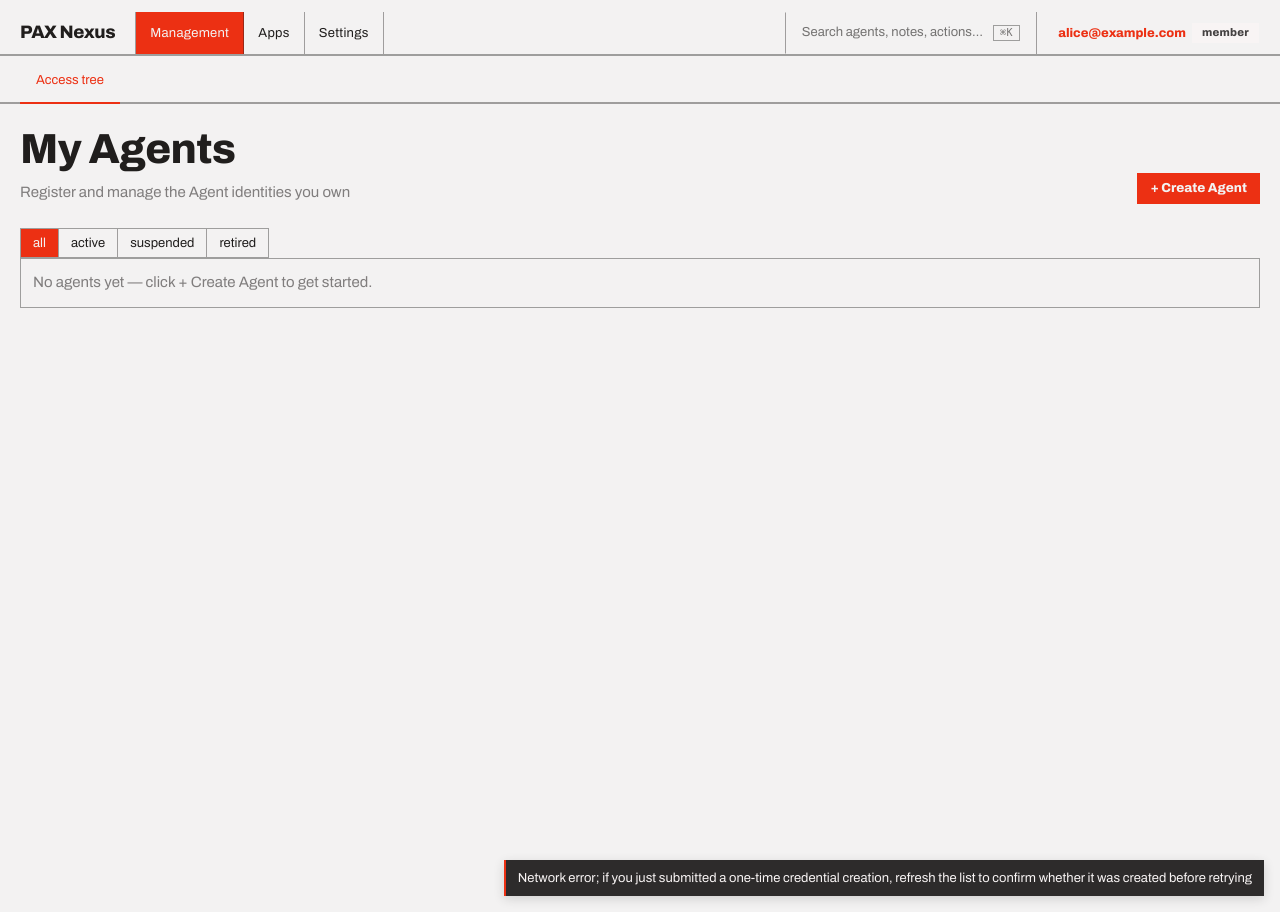
it: Todo app portal integration › still renders suggestions when the personal list endpoint fails
Click the link "Apps" at [274, 33], box [244,12,305,54]
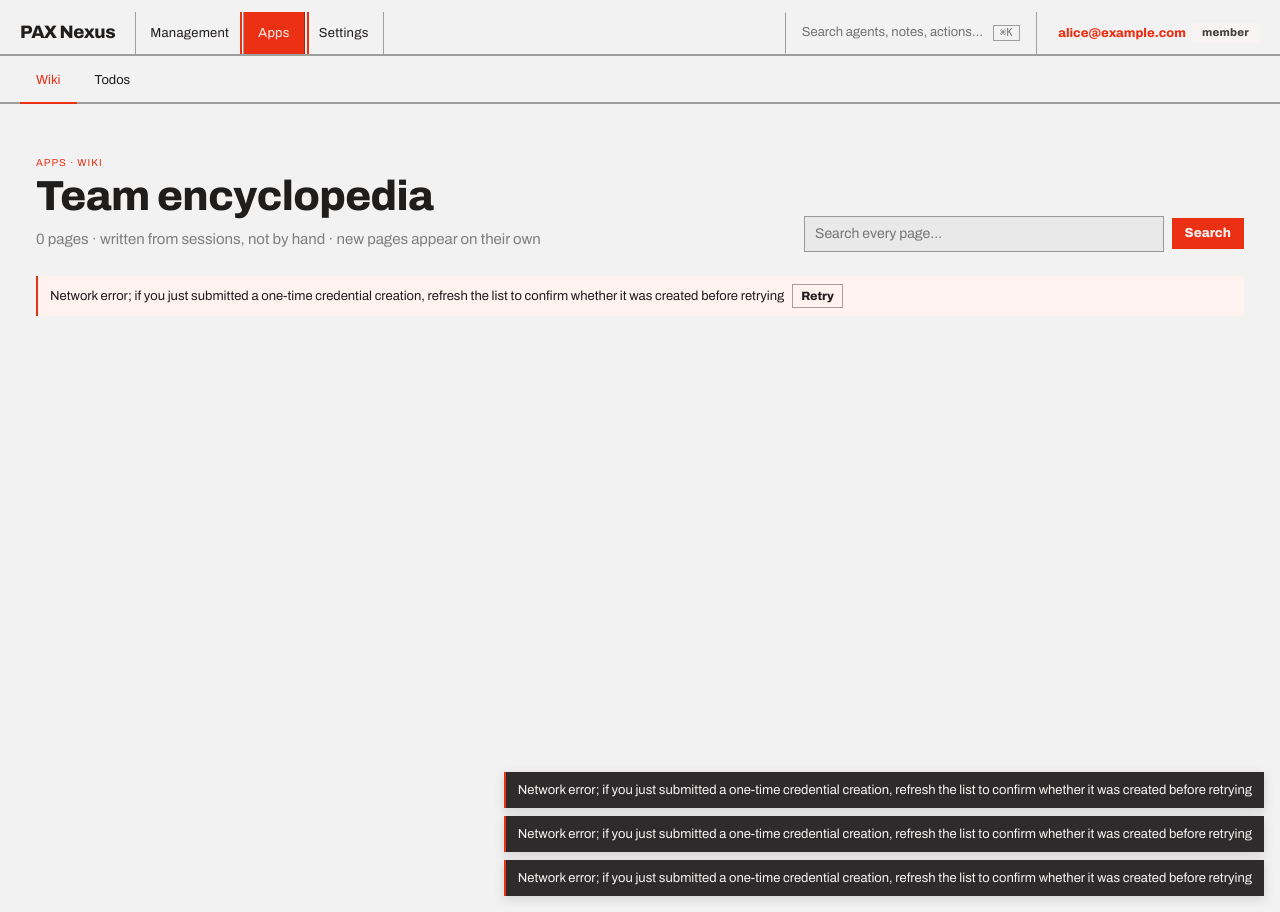
Click the link "Todos" at [112, 80], box [94,73,130,87]
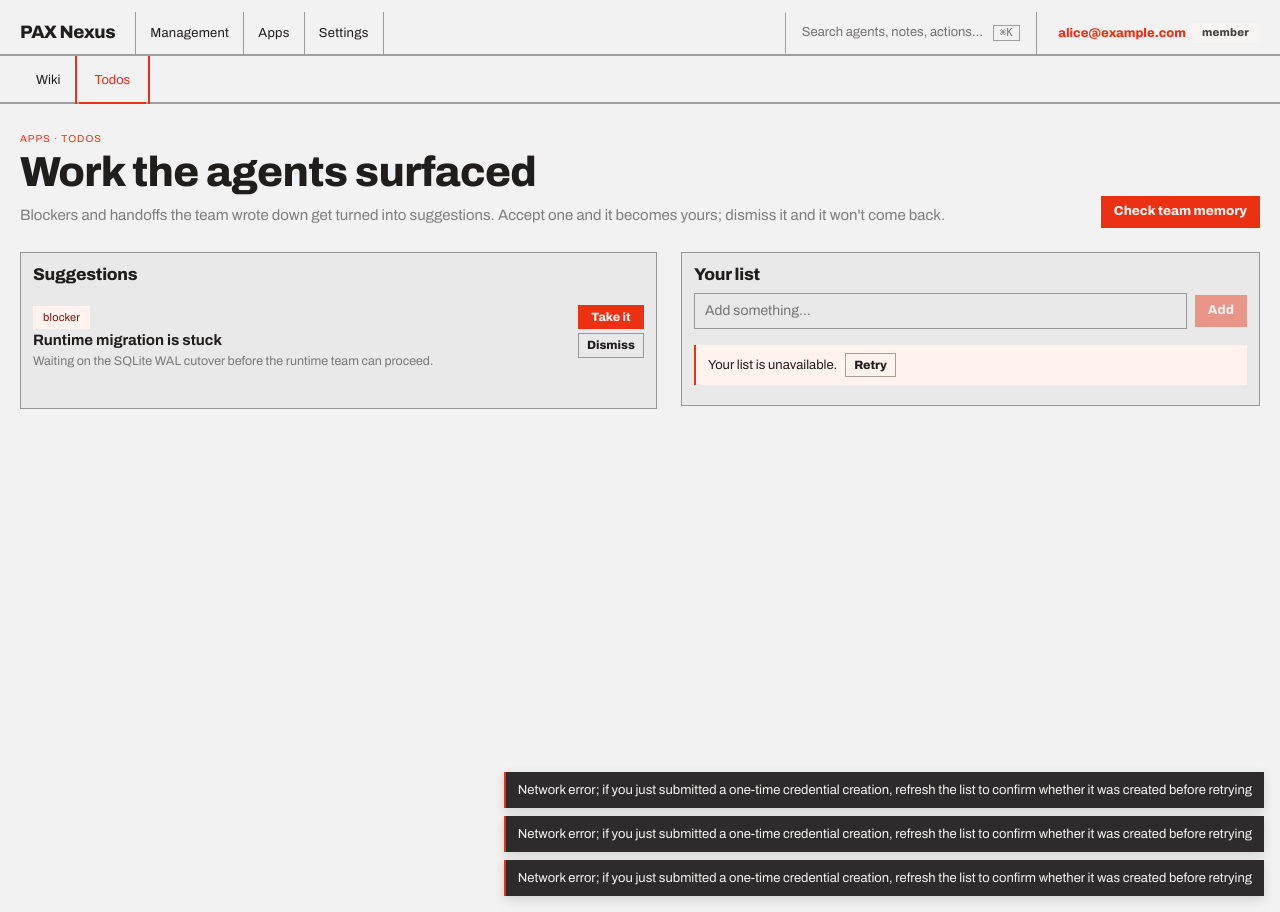
expect the heading "Work the agents surfaced" is shown: met, box [20,149,536,195]
expect the text "Runtime migration is stuck" is shown: met, box [33,332,222,348]
expect the text "Your list is unavailable." is shown: met, box [708,355,837,375]
